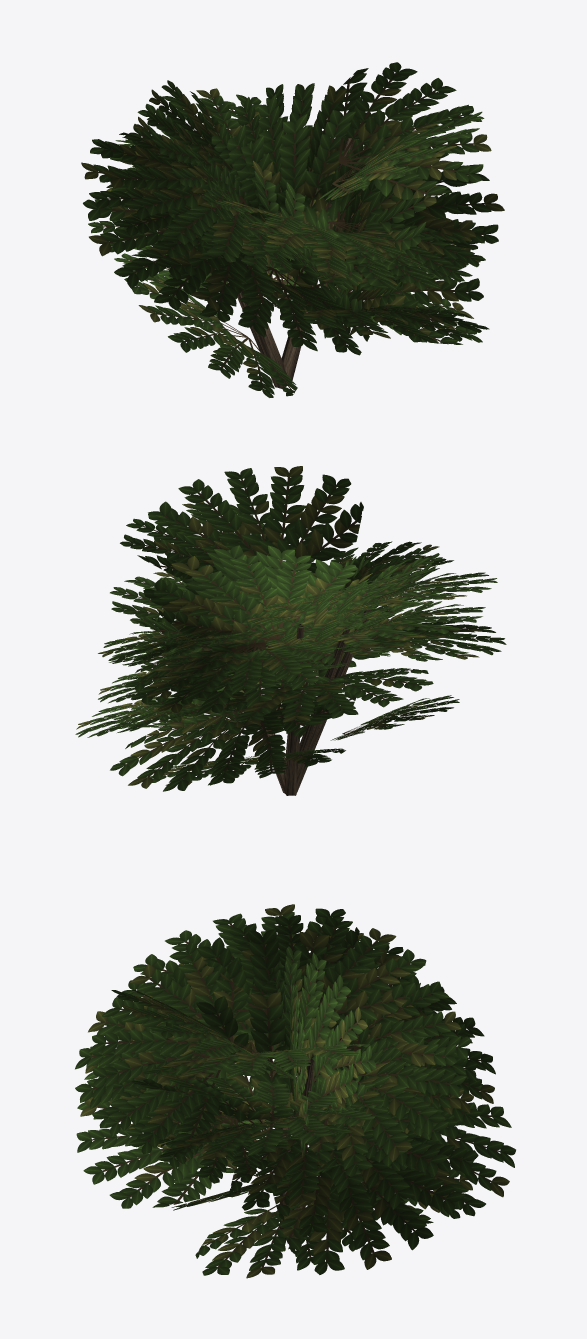
File: ENV_Bush_05.fbx
3 renders of one model, top to bottom at view 1: azimuth 30°, elevation 25°; view 2: azimuth 150°, elevation 25°; view 3: azimuth 270°, elevation 25°, orthographic. The views are drawn at different scales.
Parts seen in each view (by area): view 1: ENV_Bush_05_LOD0; view 2: ENV_Bush_05_LOD0; view 3: ENV_Bush_05_LOD0.
Boxes of the visible parts, x1=… form: ENV_Bush_05_LOD0: x1=81, y1=62, x2=504, y2=397; ENV_Bush_05_LOD0: x1=75, y1=466, x2=506, y2=795; ENV_Bush_05_LOD0: x1=75, y1=904, x2=515, y2=1278.
Size of what is drawn, in the model's own units: 2.04 by 1.33 by 2.05.
